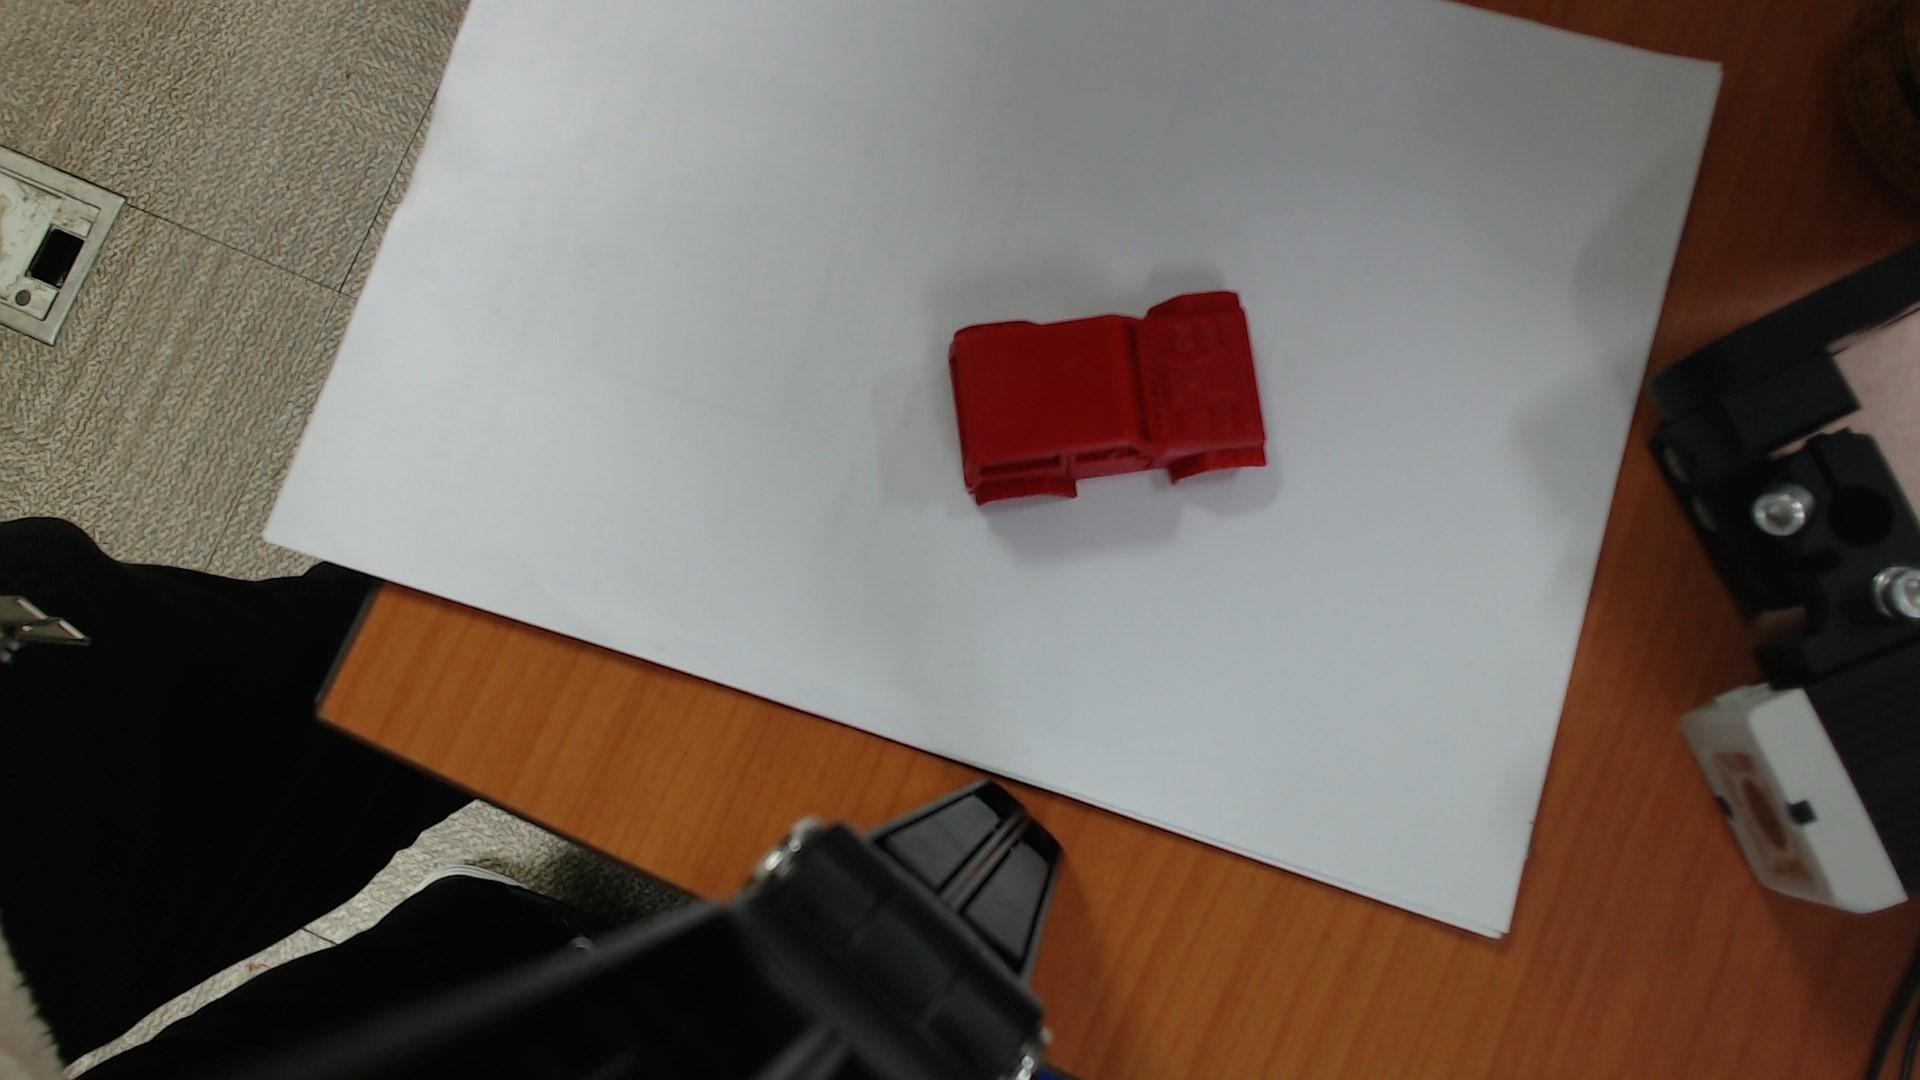Upper_ok: (949, 291, 1266, 504)
